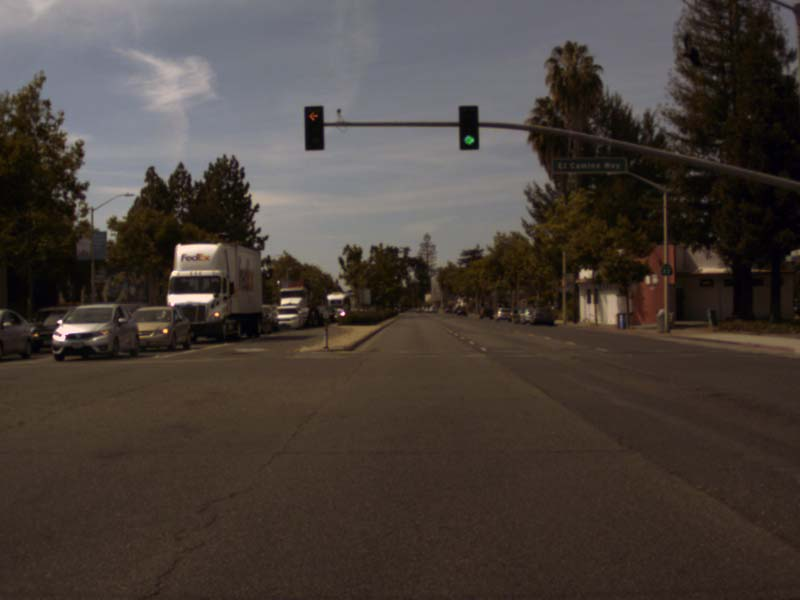Green: (458, 106, 478, 149)
Red: (304, 105, 323, 150)
